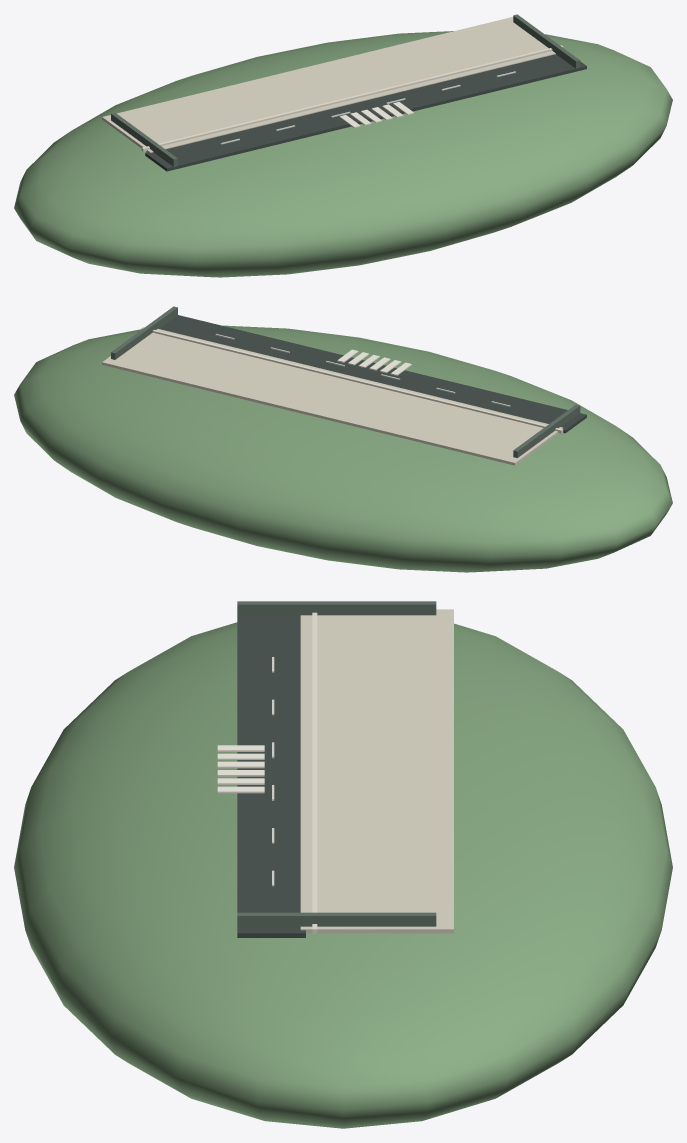
The model's file is street_base.glb.
3 renders of one model, top to bottom at view 1: azimuth 30°, elevation 25°; view 2: azimuth 150°, elevation 25°; view 3: azimuth 270°, elevation 25°, orthographic. The views are drawn at different scales.
Visible parts, largest first — view 1: small_planet_ground, sidewalk, asphalt, curb, edge_5.65, edge_-5.65; view 2: small_planet_ground, sidewalk, asphalt, curb, edge_-5.65, edge_5.65; view 3: small_planet_ground, sidewalk, asphalt, edge_5.65, edge_-5.65, curb.
Part boxes in pixels (<box>): small_planet_ground: <box>14,31,672,277</box>; sidewalk: <box>102,17,555,152</box>; asphalt: <box>145,54,586,171</box>; curb: <box>141,45,563,151</box>; edge_5.65: <box>513,14,580,68</box>; edge_-5.65: <box>111,112,177,167</box>; small_planet_ground: <box>14,325,672,572</box>; sidewalk: <box>102,329,563,465</box>; asphalt: <box>159,315,586,433</box>; curb: <box>141,327,563,433</box>; edge_-5.65: <box>513,404,580,457</box>; edge_5.65: <box>111,306,177,359</box>; small_planet_ground: <box>14,622,672,1128</box>; sidewalk: <box>300,609,453,933</box>; asphalt: <box>237,616,305,937</box>; edge_5.65: <box>237,912,436,927</box>; edge_-5.65: <box>237,601,436,616</box>; curb: <box>312,612,317,933</box>.
Bounding box in the file's own units: 17.6 × 3.48 × 10.1.
